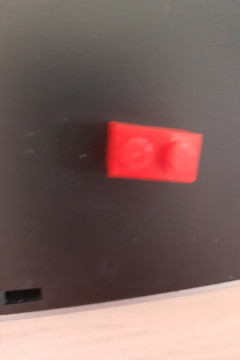1x2 red: (104, 120, 204, 184)
